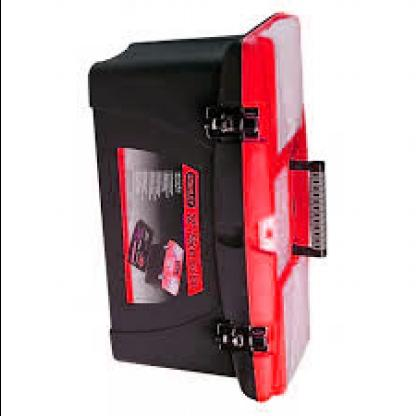Tool Box: (84, 10, 334, 405)
